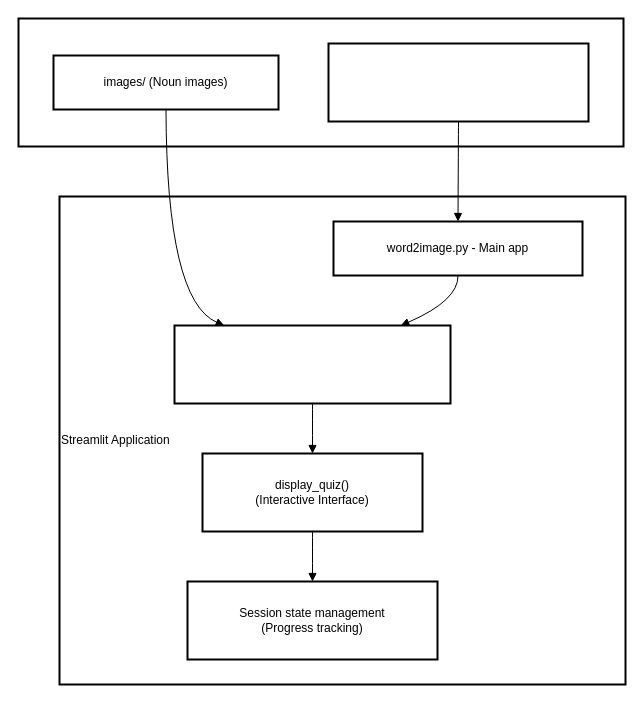
Some shapes in this 643 by 702 pixel diagram are drawn without their labels. Each missing label, with the box of its shape:
Data Storage (Input): (17, 17, 624, 147)
extract_nouns_with_context() (Metadata extraction): (173, 324, 451, 404)
JSON_files/ (Structured data): (327, 42, 589, 122)
